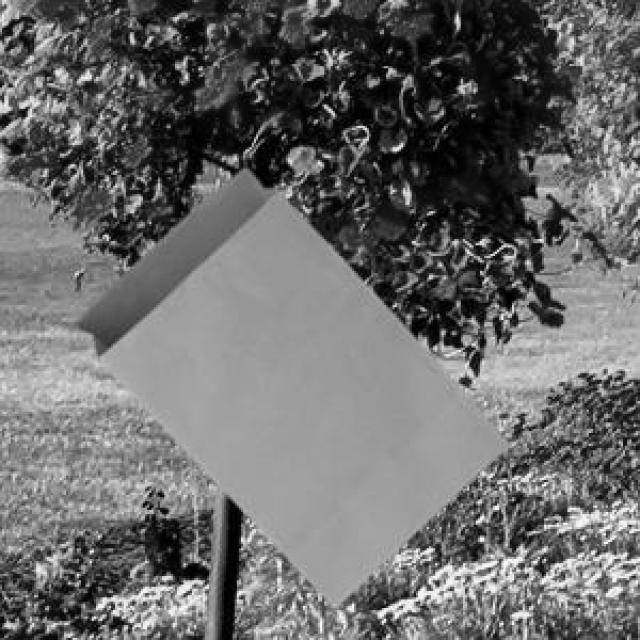paper: (73, 164, 504, 604)
